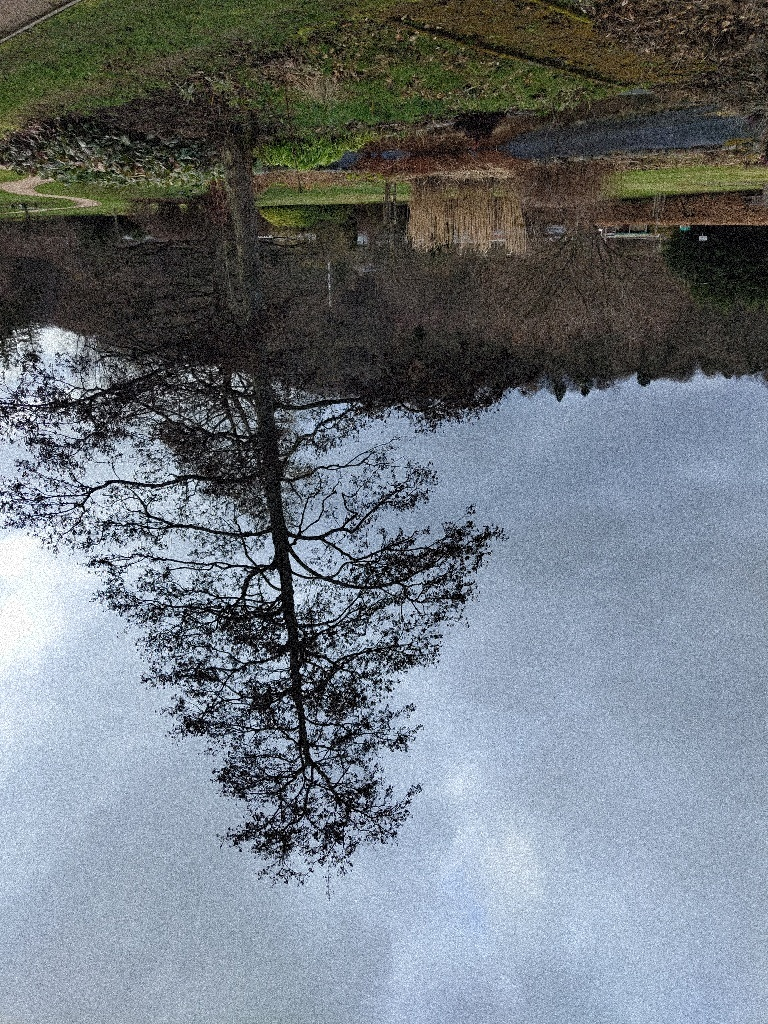Tree: (0, 124, 544, 905)
